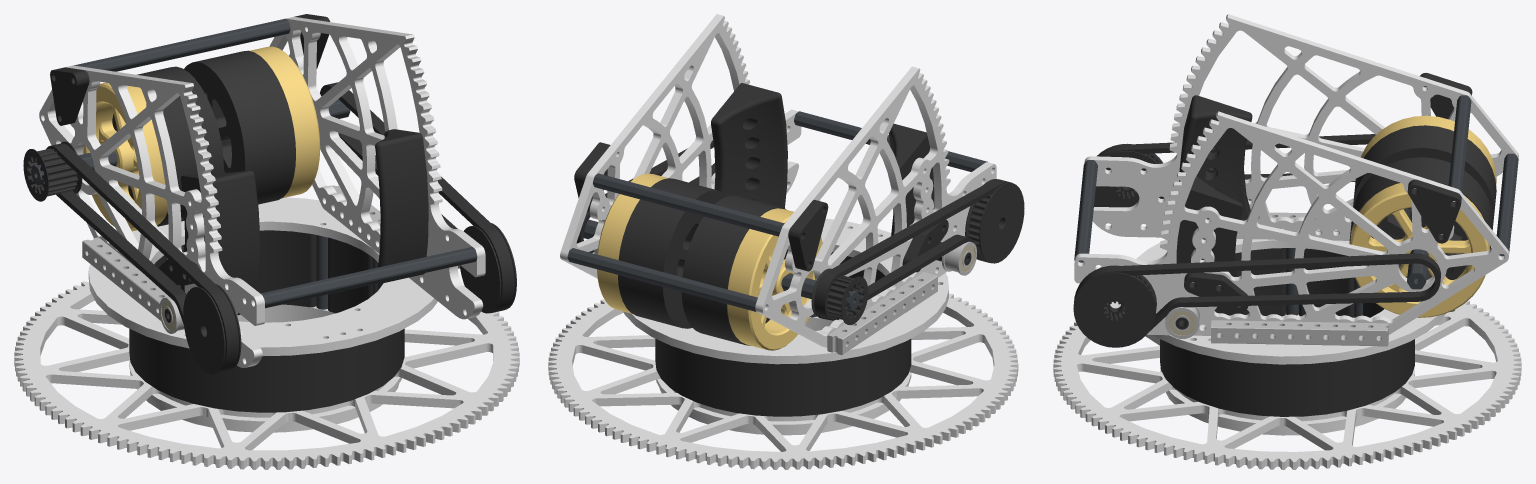
3 renders of one model, left to right at view 1: azimuth 30°, elevation 25°; view 2: azimuth 150°, elevation 25°; view 3: azimuth 270°, elevation 25°, orthographic. The views are drawn at different scales.
Visible parts, largest first — view 1: Main Plate (×2), Main Gear, Large Support Spacer, 4" Solid Urethane Wheel (45A, 1.5" Wide, 1/2" Hex Bore) (×2), Shooter Base Plate, 117T 5M 9mm Wide Belt (×2), 4" Brass Flywheel (1/2" Triangle Bore) (×2), Main Standoff (×2), Right Guide, 36t Custom HTD 5mm Pulley (0.375" Wide, SplineXS Insert) (×2), Left Guide, Nut Strip (1/2" Square ,5" , #10-32 Tapped, Alternating .5"  (+7 smaller); view 2: Main Plate (×2), Main Gear, 4" Solid Urethane Wheel (45A, 1.5" Wide, 1/2" Hex Bore) (×2), Large Support Spacer, Right Guide, 4" Brass Flywheel (1/2" Triangle Bore) (×2), Shooter Base Plate, Main Standoff (×3), 117T 5M 9mm Wide Belt (×2), 36t Custom HTD 5mm Pulley (0.375" Wide, SplineXS Insert), Nut Strip (1/2" Square ,5" , #10-32 Tapped, Alternating .5" , Upper Hardstop (×2) (+7 smaller); view 3: Main Plate (×2), Main Gear, Large Support Spacer, 117T 5M 9mm Wide Belt (×2), 4" Solid Urethane Wheel (45A, 1.5" Wide, 1/2" Hex Bore) (×2), 36t Custom HTD 5mm Pulley (0.375" Wide, SplineXS Insert) (×2), 4" Brass Flywheel (1/2" Triangle Bore) (×2), Shooter Base Plate, Left Guide, Nut Strip (1/2" Square ,5" , #10-32 Tapped, Alternating .5" , Main Standoff (×3), Right Guide (+6 smaller).
Boxes of the visible parts, x1,y1,x2,y2 form: Main Plate (×2): (39,17,485,367); Main Gear: (14,281,519,469); Large Support Spacer: (129,230,404,412); 4" Solid Urethane Wheel (45A, 1.5" Wide, 1/2" Hex Bore) (×2): (112,50,295,226); Shooter Base Plate: (88,197,437,355); 117T 5M 9mm Wide Belt (×2): (46,82,514,373); 4" Brass Flywheel (1/2" Triangle Bore) (×2): (82,46,320,231); Main Standoff (×2): (73,18,477,308); Right Guide: (375,129,428,283); 36t Custom HTD 5mm Pulley (0.375" Wide, SplineXS Insert) (×2): (183,223,516,374); Left Guide: (180,170,260,315); Nut Strip (1/2" Square ,5" , #10-32 Tapped, Alternating .5" : (82,237,170,320); Main Plate (×2): (560,14,996,347); Main Gear: (548,293,1018,469); 4" Solid Urethane Wheel (45A, 1.5" Wide, 1/2" Hex Bore) (×2): (618,178,787,345); Large Support Spacer: (655,252,911,416); Right Guide: (711,83,787,208); 4" Brass Flywheel (1/2" Triangle Bore) (×2): (597,173,822,350); Shooter Base Plate: (623,218,948,364); Main Standoff (×3): (567,111,987,311); 117T 5M 9mm Wide Belt (×2): (576,140,1012,319); 36t Custom HTD 5mm Pulley (0.375" Wide, SplineXS Insert): (965,179,1024,263); Nut Strip (1/2" Square ,5" , #10-32 Tapped, Alternating .5" : (827,272,937,354); Upper Hardstop (×2): (574,142,828,271); Main Plate (×2): (1074,14,1518,335); Main Gear: (1053,300,1521,469); Large Support Spacer: (1160,248,1414,416); 117T 5M 9mm Wide Belt (×2): (1073,134,1440,332); 4" Solid Urethane Wheel (45A, 1.5" Wide, 1/2" Hex Bore) (×2): (1349,125,1496,279); 36t Custom HTD 5mm Pulley (0.375" Wide, SplineXS Insert) (×2): (1073,143,1163,347); 4" Brass Flywheel (1/2" Triangle Bore) (×2): (1350,115,1496,317); Shooter Base Plate: (1136,239,1445,364); Left Guide: (1179,95,1252,220); Nut Strip (1/2" Square ,5" , #10-32 Tapped, Alternating .5" : (1211,320,1388,346); Main Standoff (×3): (1074,95,1518,262); Right Guide: (1176,176,1244,315).
Bounding box in the file's own units: 0.3353 × 0.2509 × 0.3353.
